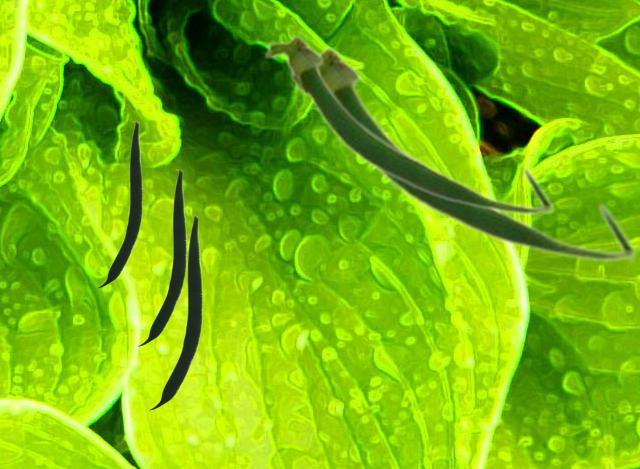french_bean: (287, 43, 637, 263), (262, 32, 554, 216), (148, 215, 201, 409), (137, 169, 185, 345), (96, 121, 141, 287)
